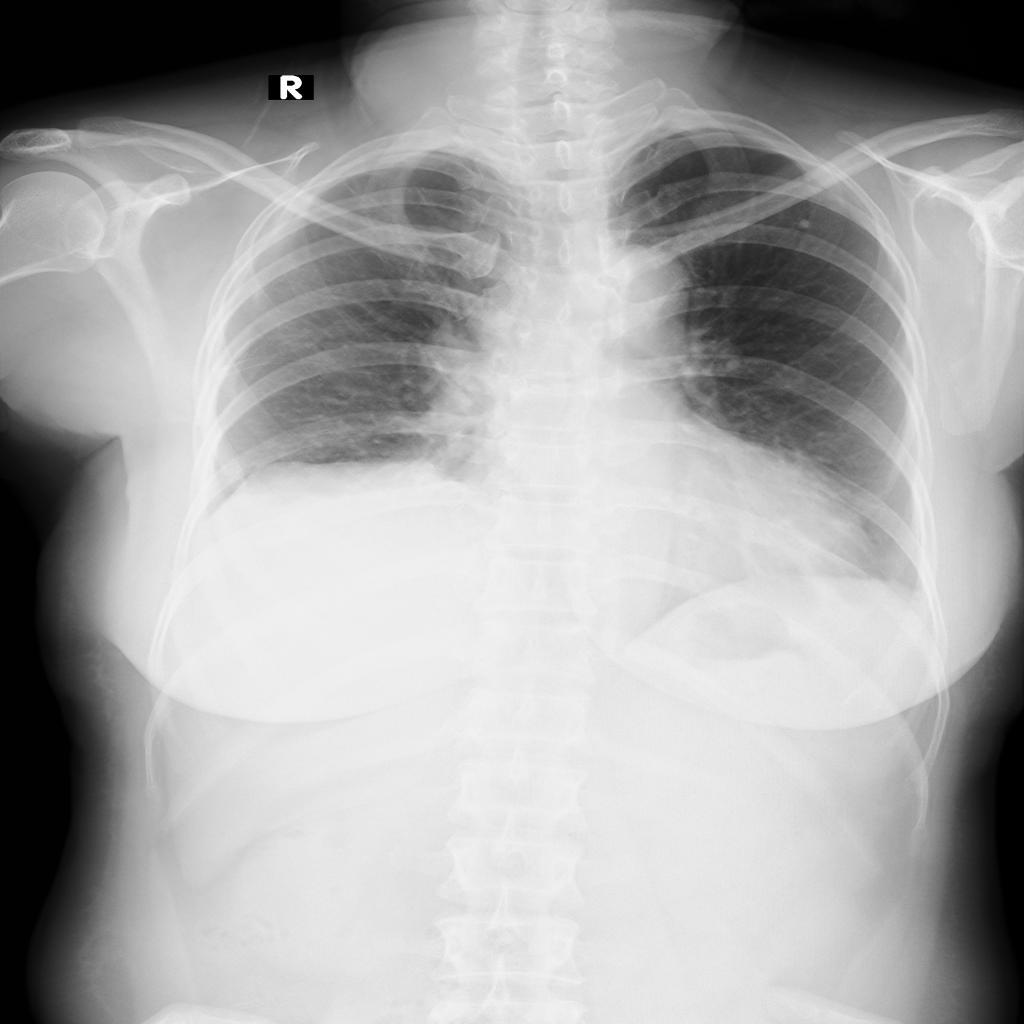Nodule: (799, 220, 811, 229)
